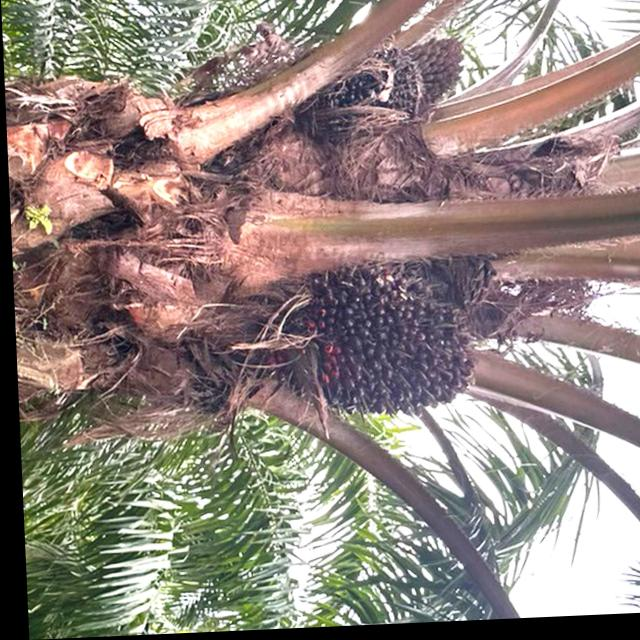ripe: (294, 257, 481, 428)
